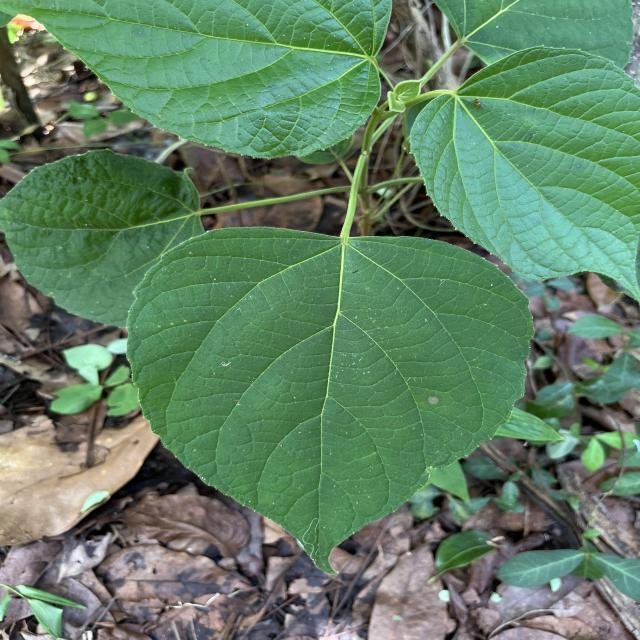Clerodendrum infortunatum: (127, 225, 538, 578), (408, 43, 640, 315)
